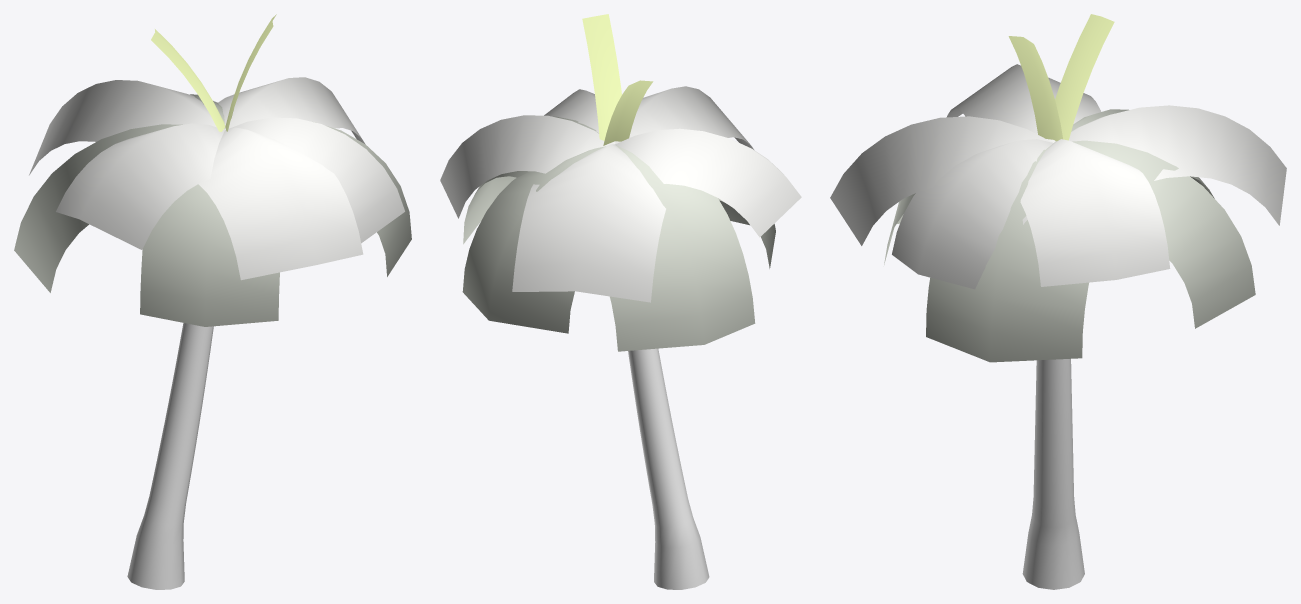
The model's file is plant_palm_a.glb.
3 views of the same model, side by side, from view 1: azimuth 30°, elevation 25°; view 2: azimuth 150°, elevation 25°; view 3: azimuth 270°, elevation 25° (orthographic). The views are drawn at different scales.
Parts seen in each view (by area): view 1: plant_palm_0; view 2: plant_palm_0; view 3: plant_palm_0.
Boxes of the visible parts, bbox=[...] form: plant_palm_0: bbox=[14, 14, 411, 589]; plant_palm_0: bbox=[440, 14, 801, 589]; plant_palm_0: bbox=[830, 14, 1286, 589].
Bounding box in the file's own units: 5.5 × 8.83 × 6.16.
